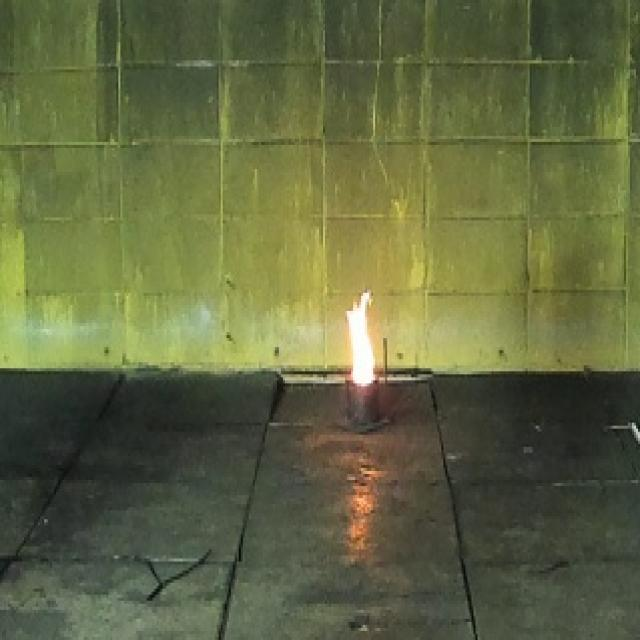Fire: (348, 293, 376, 387)
